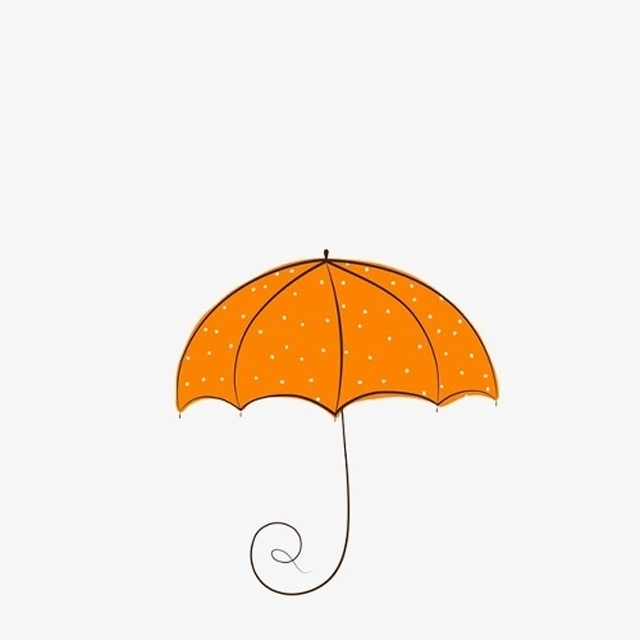umbrella: (166, 246, 503, 601)
